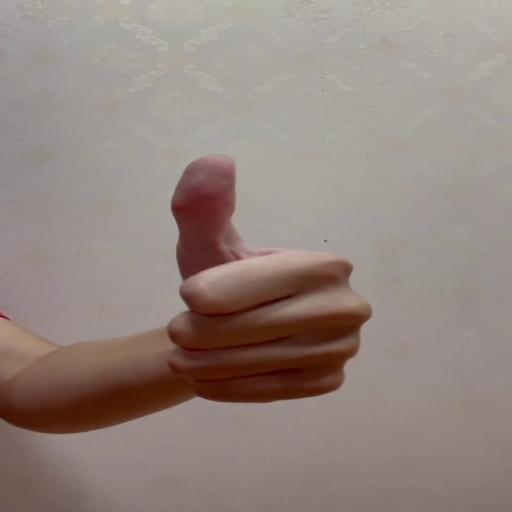thumbs_up: (164, 152, 376, 406)
